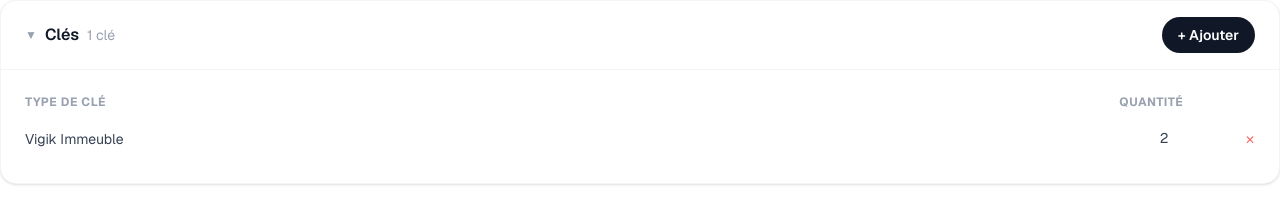
Test: ApartmentKeysPanel — collapse › masque les clés après un clic sur le toggle
This screenshot has width=1280, height=202.
Expected: the text "Vigik Immeuble" is shown, [25, 118, 727, 159]
Click the button "▼ Clés 1 clé": (70, 35) [25, 23, 115, 47]
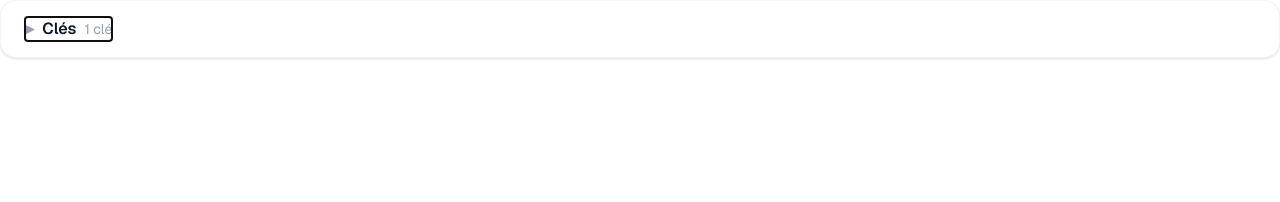
Expected: the text "Vigik Immeuble" is gone
